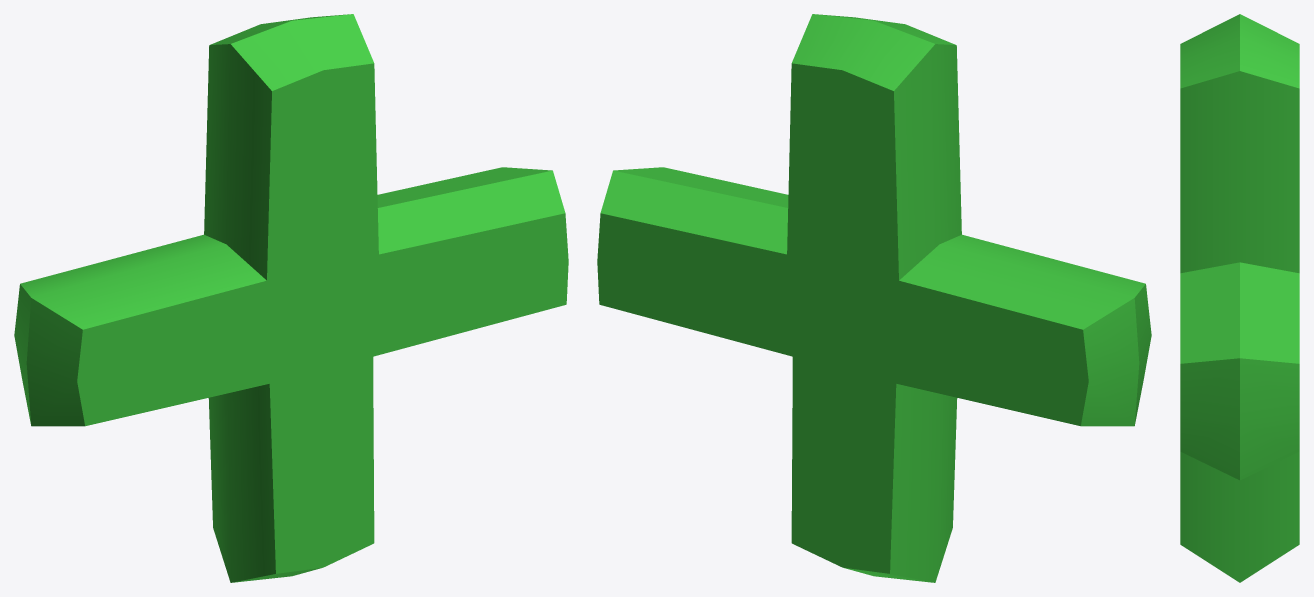
Rendered from plus_icon.fbx.
The picture shows the model from 3 angles, left to right: view 1: azimuth 30°, elevation 25°; view 2: azimuth 150°, elevation 25°; view 3: azimuth 270°, elevation 25°; orthographic projection. The views are drawn at different scales.
Parts seen in each view (by area): view 1: plus_icon; view 2: plus_icon; view 3: plus_icon.
Part boxes in pixels (bbox=[...]): plus_icon: bbox=[14, 14, 568, 582]; plus_icon: bbox=[597, 14, 1151, 582]; plus_icon: bbox=[1180, 14, 1299, 582].
Size of the model in its own units: 38.99 by 38.99 by 8.
1 material, 1 textured.
